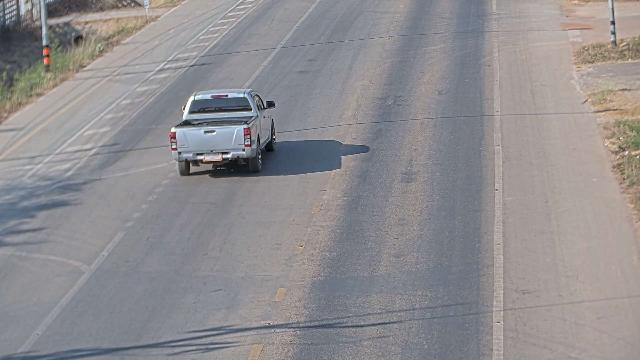pickup-truck: (168, 87, 277, 176)
